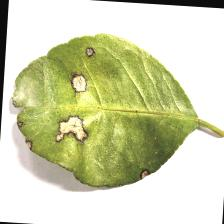canker: (16, 35, 153, 188)
